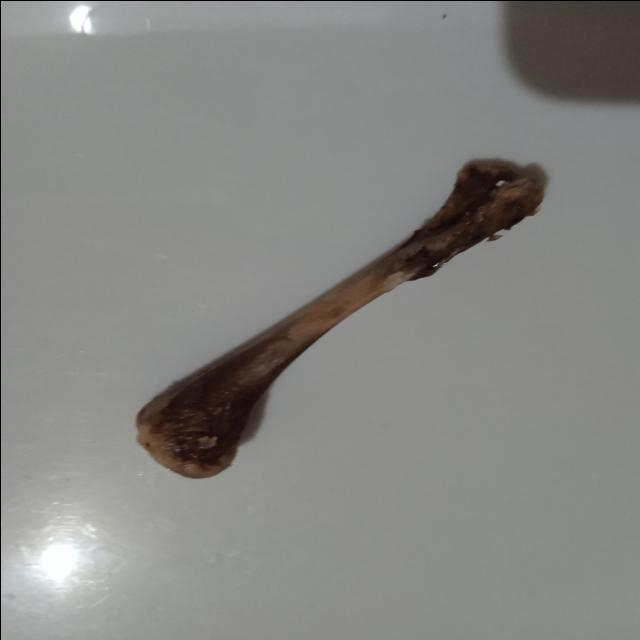bone: (112, 150, 552, 487)
